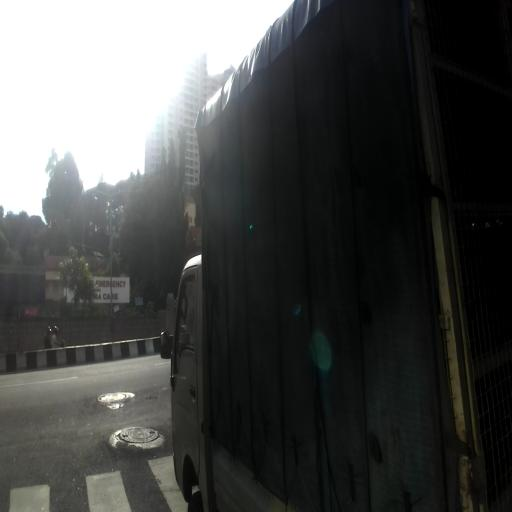street_light_0: (96, 190, 112, 203), (110, 191, 122, 205)
